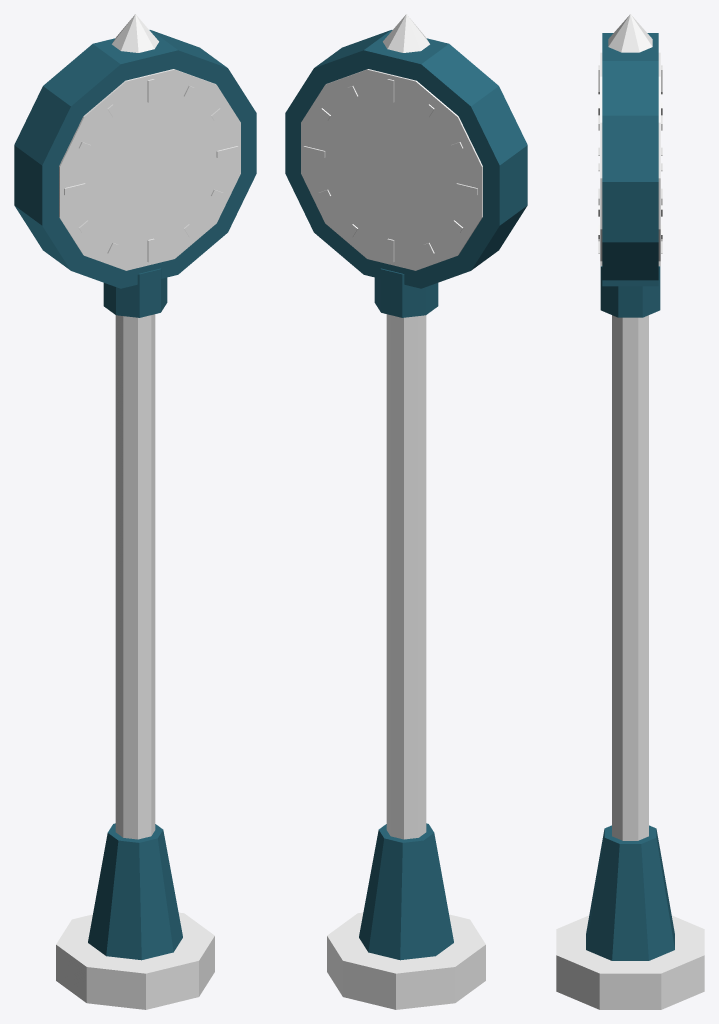
File: decor_clock.obj
3 views of the same model, side by side, from view 1: azimuth 30°, elevation 25°; view 2: azimuth 150°, elevation 25°; view 3: azimuth 270°, elevation 25° (orthographic).
Parts seen in each view (by area): view 1: Body; view 2: Body; view 3: Body.
Part boxes in pixels (box(x1,y1,x2,y2)): Body: box(14, 14, 256, 1009); Body: box(285, 14, 527, 1009); Body: box(556, 14, 704, 1009).
Size of the model in its own units: 0.6182 by 2.65 by 0.3696.
